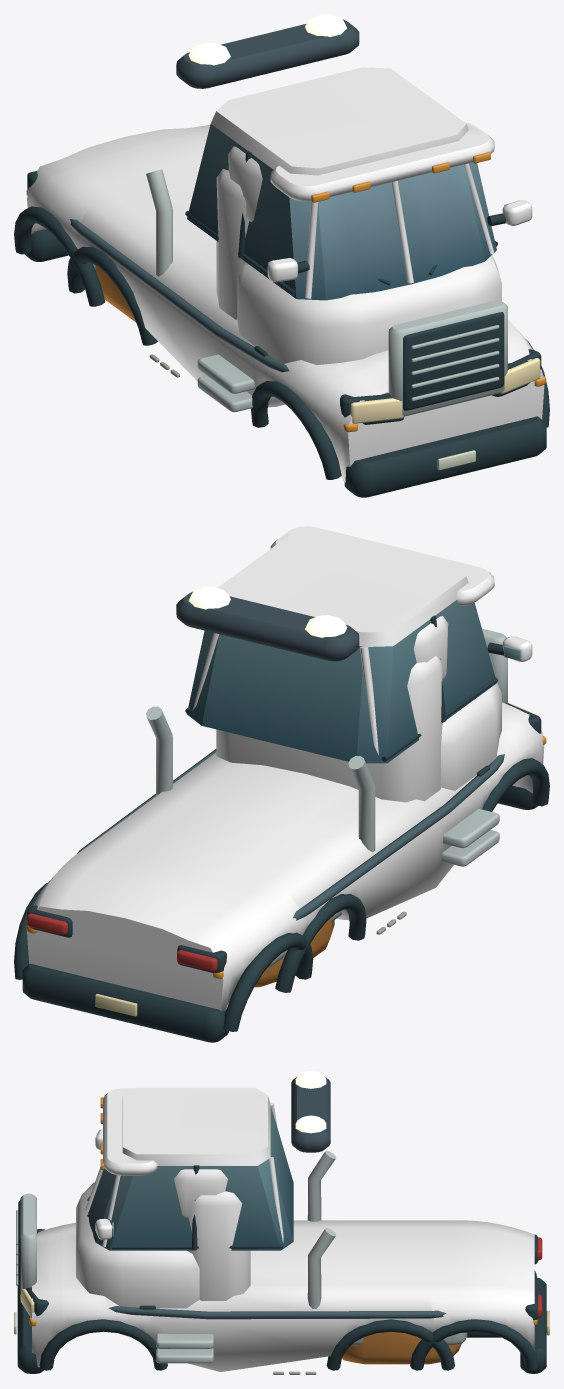
File: forklift.glb
3 renders of one model, top to bottom at view 1: azimuth 30°, elevation 25°; view 2: azimuth 150°, elevation 25°; view 3: azimuth 270°, elevation 25°, orthographic. The views are drawn at different scales.
Parts seen in each view (by area): view 1: Chassis, Headlamps; view 2: Chassis, BrakeLamps; view 3: Chassis.
Part boxes in pixels (x1,y1,x2,y2): Chassis: (14,14,549,497); Headlamps: (350,358,540,423); Chassis: (14,526,549,1042); BrakeLamps: (27,913,217,971); Chassis: (14,1071,549,1374).
Size of the model in its own units: 2.1 by 2.32 by 4.63.
